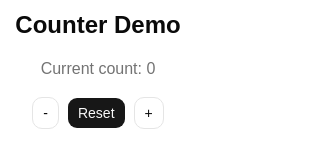
Test: Counter › handles multiple operations correctly
This screenshot has width=320, height=160.
Click the button named "Increment" at (149, 113), box [134,97,164,129]
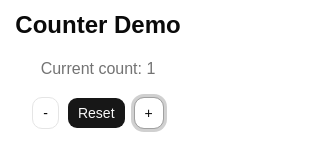
Click the button named "Increment" at (149, 113), box [134,97,164,129]
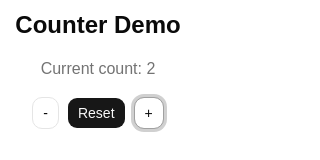
Result: the text with test id "count" reads "2" at [146,60,155,77]
Click the button named "Decrement" at (46, 113), box [32,97,59,129]
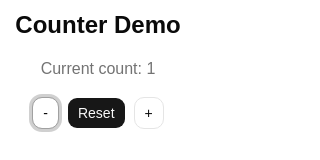
Result: the text with test id "count" reads "1" at [146,60,155,77]
